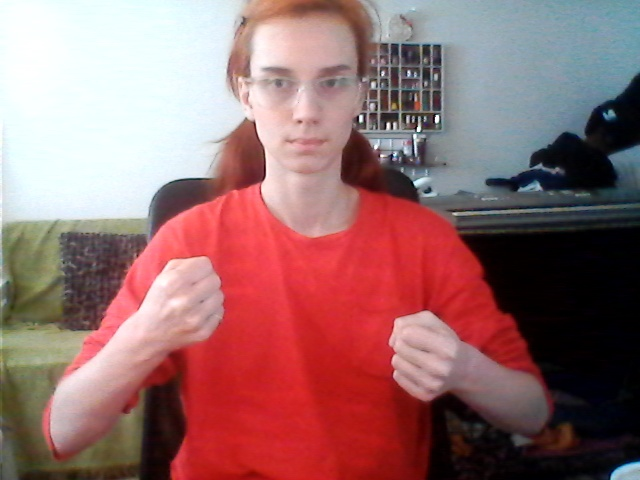auto: (146, 254, 476, 411)
